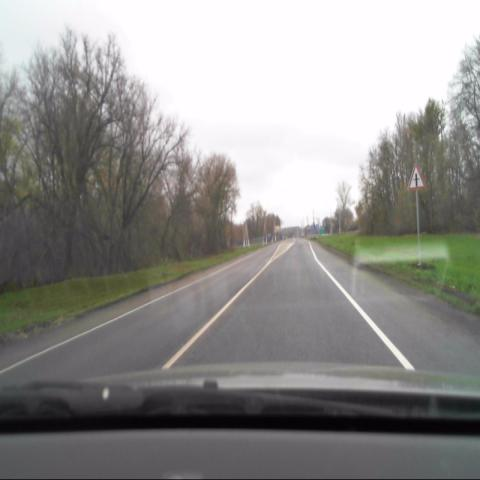2_3: (409, 162, 425, 191)
